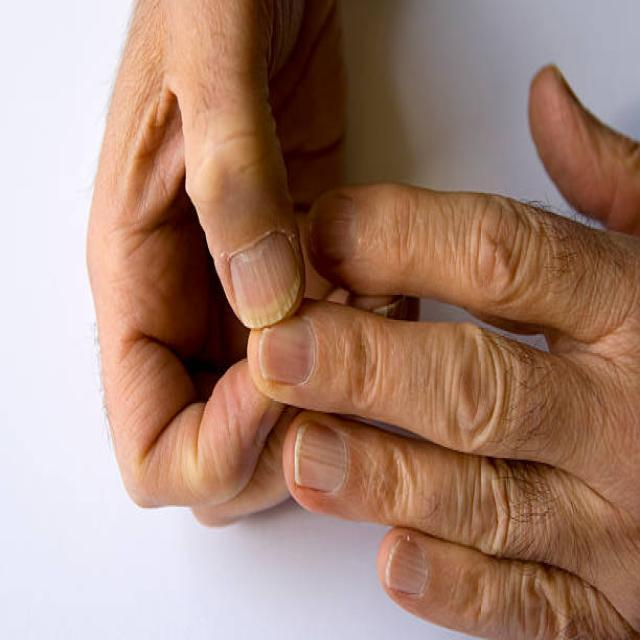Fingernail: (231, 234, 300, 327), (311, 198, 363, 266), (296, 423, 346, 492), (261, 320, 314, 385), (387, 539, 427, 595)
